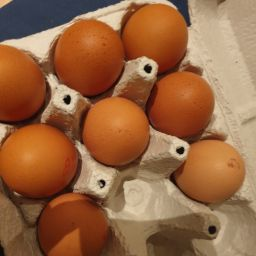Eggs: (44, 16, 129, 89), (7, 114, 76, 202), (87, 98, 159, 169), (186, 133, 256, 206), (37, 190, 111, 256), (153, 67, 218, 137), (124, 4, 196, 67), (1, 40, 52, 127)
